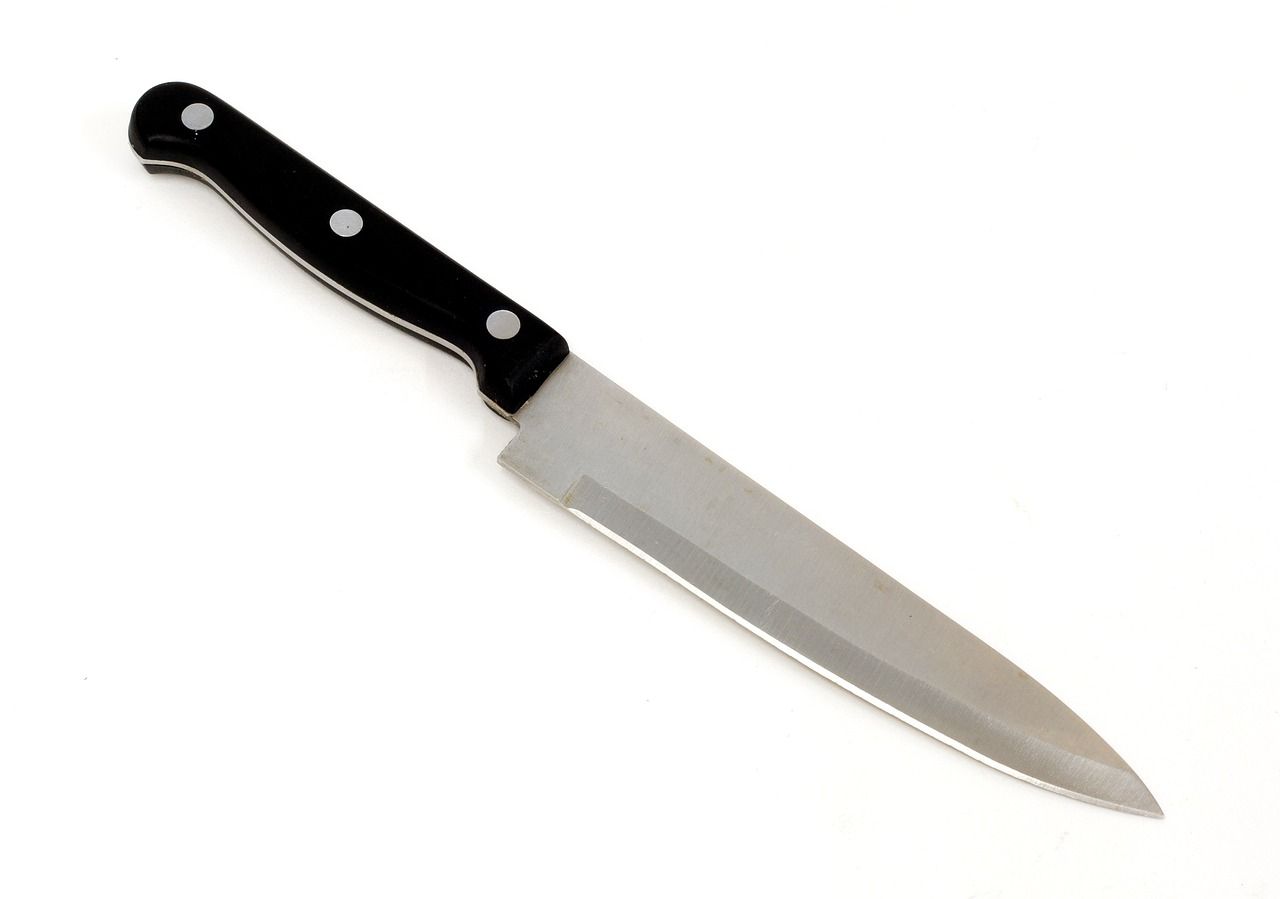knife: (117, 58, 1172, 829)
